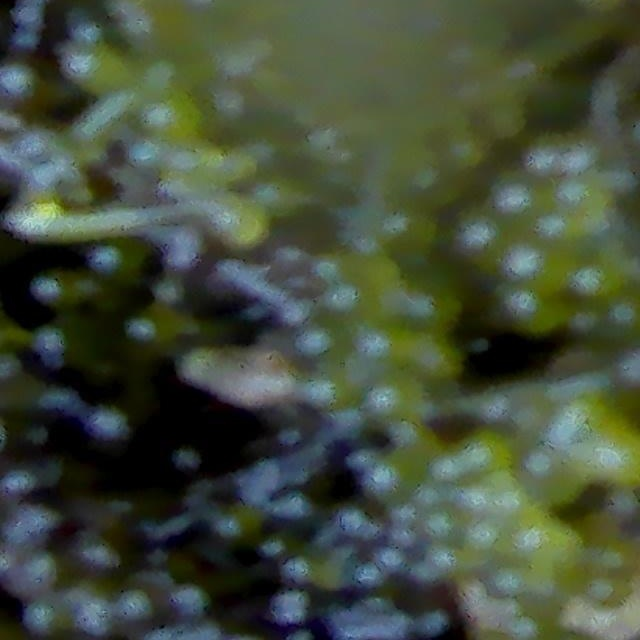SeaGrape: (580, 429, 640, 486), (505, 286, 567, 339), (505, 242, 568, 293), (365, 376, 422, 425), (166, 231, 213, 290), (460, 218, 512, 271), (365, 453, 421, 502), (0, 62, 44, 120), (494, 175, 543, 227), (216, 197, 267, 246), (144, 96, 195, 145), (64, 42, 115, 91), (463, 429, 511, 479), (558, 177, 605, 223), (534, 212, 585, 251), (307, 370, 359, 406), (577, 260, 621, 300)
